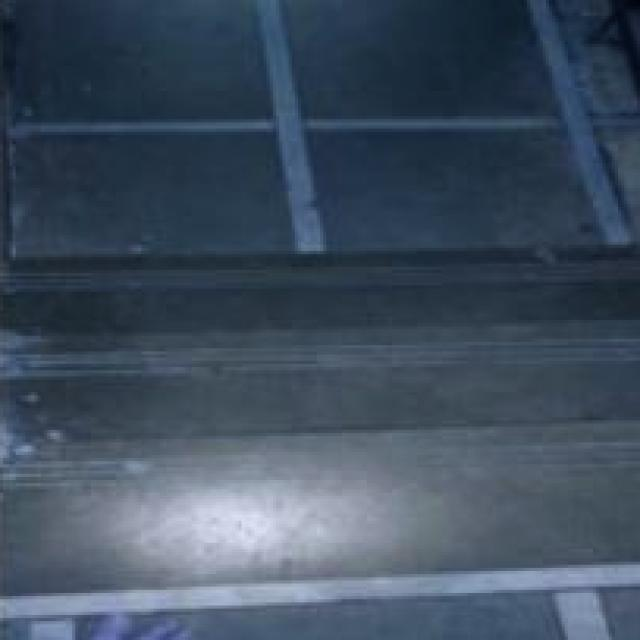downstair: (196, 252, 575, 481)
